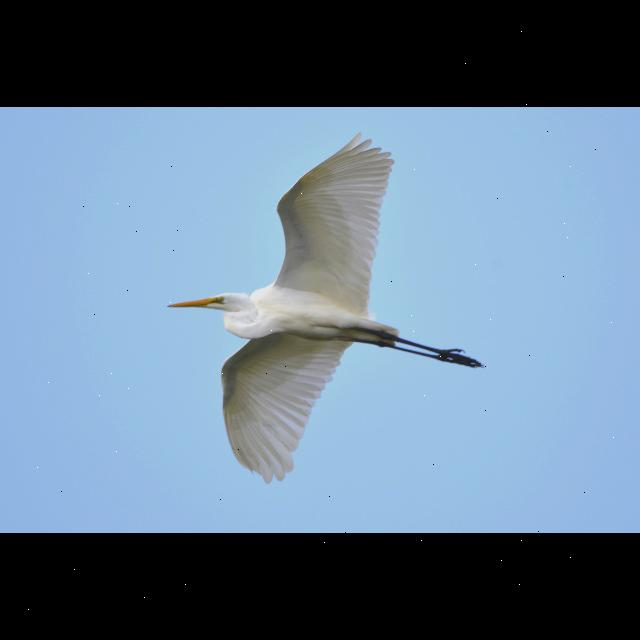egret: (165, 134, 499, 486)
